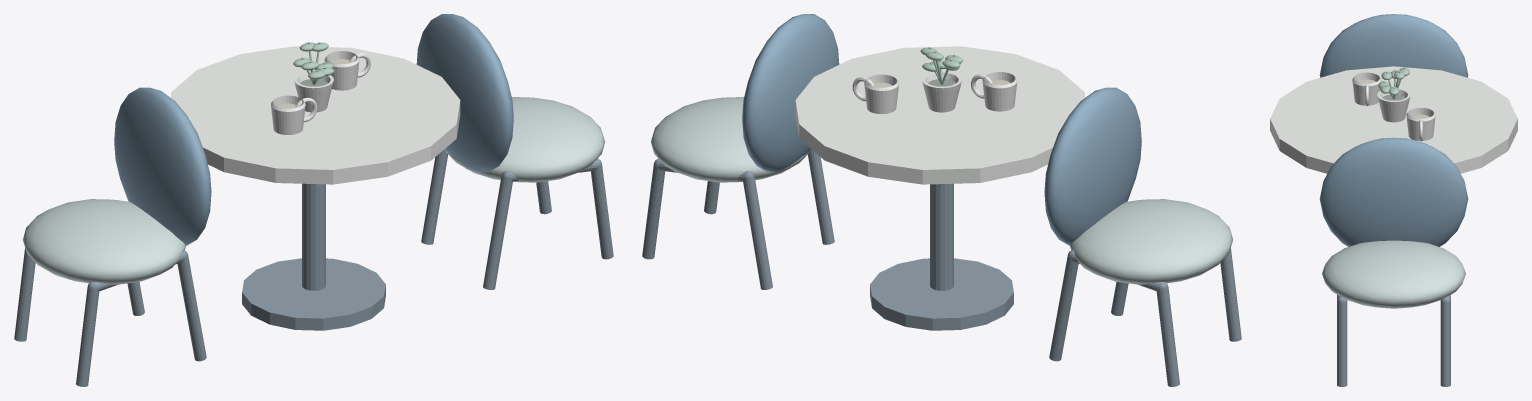
Rendered from restaurant_bistro_set.glb.
The picture shows the model from 3 angles, left to right: view 1: azimuth 30°, elevation 25°; view 2: azimuth 150°, elevation 25°; view 3: azimuth 270°, elevation 25°; orthographic projection. The views are drawn at different scales.
Parts seen in each view (by area): view 1: decor_d8dcd8_matte, decor_476a8a_fabric, decor_455665_metal, decor_9bb7b5_fabric, decor_729986_matte; view 2: decor_d8dcd8_matte, decor_476a8a_fabric, decor_455665_metal, decor_9bb7b5_fabric, decor_729986_matte; view 3: decor_476a8a_fabric, decor_d8dcd8_matte, decor_9bb7b5_fabric, decor_455665_metal, decor_729986_matte.
Boxes of the visible parts, bbox=[...] form: decor_d8dcd8_matte: bbox=[170, 46, 460, 184]; decor_476a8a_fabric: bbox=[114, 14, 513, 245]; decor_455665_metal: bbox=[14, 149, 613, 386]; decor_9bb7b5_fabric: bbox=[23, 97, 604, 284]; decor_729986_matte: bbox=[293, 42, 334, 84]; decor_d8dcd8_matte: bbox=[795, 46, 1085, 184]; decor_476a8a_fabric: bbox=[742, 14, 1141, 245]; decor_455665_metal: bbox=[642, 149, 1241, 386]; decor_9bb7b5_fabric: bbox=[651, 97, 1232, 284]; decor_729986_matte: bbox=[920, 47, 963, 84]; decor_476a8a_fabric: bbox=[1319, 14, 1468, 246]; decor_d8dcd8_matte: bbox=[1270, 66, 1517, 173]; decor_9bb7b5_fabric: bbox=[1322, 240, 1465, 308]; decor_455665_metal: bbox=[1337, 295, 1450, 386]; decor_729986_matte: bbox=[1378, 67, 1409, 99].
Size of the model in its own units: 2.4 by 1.05 by 1.1.
